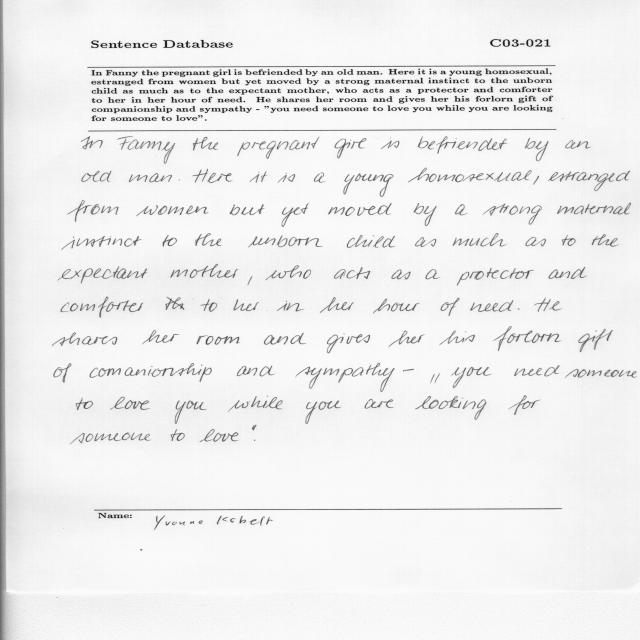word: (295, 363, 395, 392), (90, 363, 212, 382), (238, 137, 319, 159), (415, 396, 487, 420), (408, 169, 531, 183), (494, 326, 561, 351), (549, 171, 631, 191), (61, 297, 143, 317), (117, 136, 175, 164), (418, 136, 507, 154), (58, 267, 147, 284), (457, 268, 534, 285), (483, 204, 542, 225), (344, 173, 394, 197), (68, 201, 119, 222), (62, 236, 142, 249), (171, 264, 239, 278), (53, 332, 118, 346), (248, 236, 323, 248), (557, 203, 631, 215), (228, 396, 283, 412), (71, 433, 151, 444), (305, 400, 341, 424), (451, 367, 492, 388), (327, 334, 370, 354), (328, 203, 392, 216), (578, 329, 613, 352), (136, 206, 209, 217), (174, 400, 207, 424), (165, 297, 217, 312), (373, 299, 420, 314), (453, 234, 507, 247), (266, 265, 311, 280), (335, 138, 367, 159), (281, 203, 309, 227), (565, 369, 637, 378), (509, 395, 541, 415), (388, 331, 425, 348), (347, 235, 395, 248), (192, 169, 232, 183), (142, 330, 179, 345), (525, 138, 549, 161), (320, 297, 354, 313), (414, 203, 437, 226), (110, 397, 150, 410), (470, 300, 513, 312), (439, 331, 475, 345), (514, 365, 559, 376), (200, 429, 238, 442), (548, 267, 587, 279), (264, 333, 306, 344), (196, 335, 240, 345), (334, 267, 370, 279), (234, 299, 268, 311), (534, 298, 562, 312), (129, 173, 172, 182), (230, 205, 265, 216), (237, 366, 275, 376), (54, 363, 72, 383), (195, 234, 222, 247), (592, 234, 619, 247), (441, 298, 460, 316), (193, 137, 218, 150), (82, 171, 111, 182), (277, 301, 304, 312), (365, 399, 394, 409), (81, 136, 103, 149), (565, 140, 591, 149), (415, 237, 436, 247), (381, 138, 400, 149), (77, 398, 94, 410), (250, 171, 268, 182), (392, 270, 411, 280), (525, 237, 546, 246), (278, 173, 295, 183), (171, 429, 185, 441), (163, 235, 177, 246), (562, 235, 576, 246), (426, 270, 440, 280), (455, 205, 467, 216), (314, 173, 325, 183), (430, 373, 440, 383), (533, 176, 539, 185), (248, 276, 252, 285), (403, 369, 414, 372), (252, 425, 257, 431), (518, 308, 520, 310), (179, 180, 180, 181), (254, 440, 255, 441)
